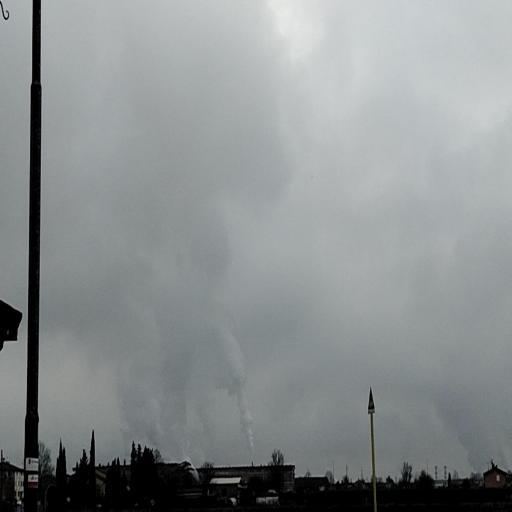leakage: (68, 239, 264, 486)
